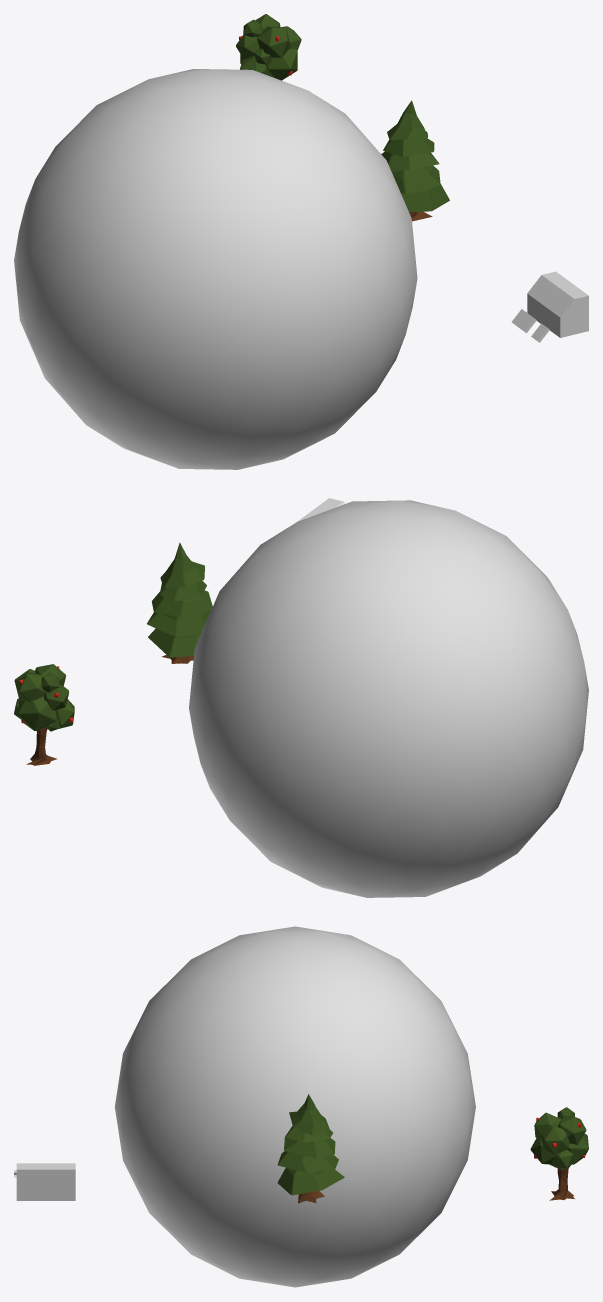
File: LandOfFullMotionVideoModels.FBX
3 renders of one model, top to bottom at view 1: azimuth 30°, elevation 25°; view 2: azimuth 150°, elevation 25°; view 3: azimuth 270°, elevation 25°, orthographic. The views are drawn at different scales.
Visible parts, largest first — view 1: InvertedSphere, Tree02, Tree01, VideoControlBox; view 2: InvertedSphere, Tree02, Tree01; view 3: InvertedSphere, Tree02, Tree01, VideoControlBox.
Boxes of the visible parts, x1,y1,x2,y2 form: InvertedSphere: (14,69,417,469); Tree02: (381,100,449,221); Tree01: (236,14,301,80); VideoControlBox: (527,271,588,337); InvertedSphere: (189,500,588,897); Tree02: (147,542,212,663); Tree01: (14,664,74,765); InvertedSphere: (115,926,475,1287); Tree02: (277,1094,344,1203); Tree01: (530,1107,588,1200); VideoControlBox: (16,1163,75,1200).
Size of the model in its own units: 712 by 613 by 976.
